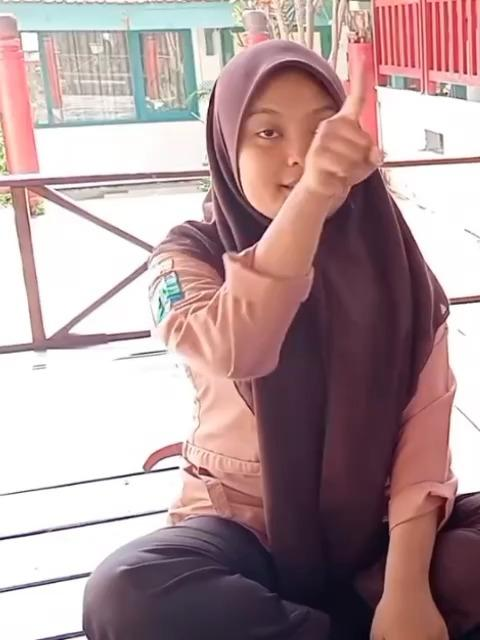Z: (299, 34, 385, 208)
